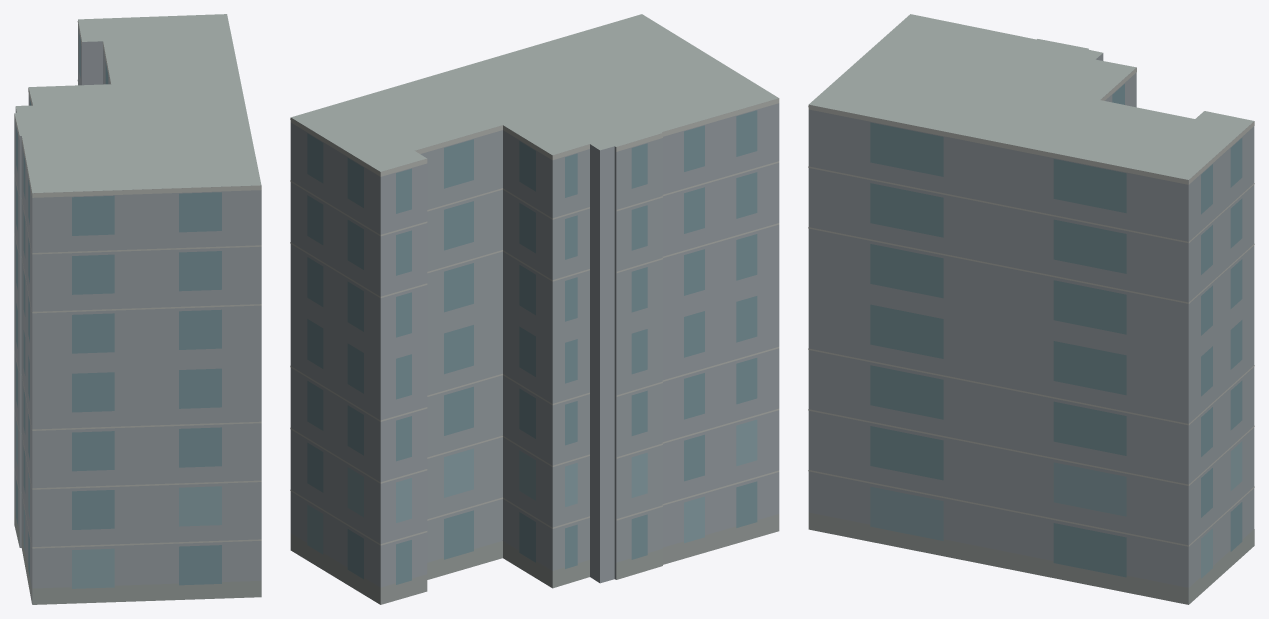
The model's file is survey-upis-33001328.glb.
The picture shows the model from 3 angles, left to right: view 1: azimuth 30°, elevation 25°; view 2: azimuth 150°, elevation 25°; view 3: azimuth 270°, elevation 25°; orthographic projection. The views are drawn at different scales.
Visible parts, largest first — view 1: survey-upis-33001328.tmp; view 2: survey-upis-33001328.tmp; view 3: survey-upis-33001328.tmp.
Boxes of the visible parts, x1,y1,x2,y2 form: survey-upis-33001328.tmp: [14, 14, 261, 604]; survey-upis-33001328.tmp: [290, 14, 779, 604]; survey-upis-33001328.tmp: [808, 14, 1254, 604].
Bounding box in the file's own units: 17.92 × 21.35 × 20.33.
